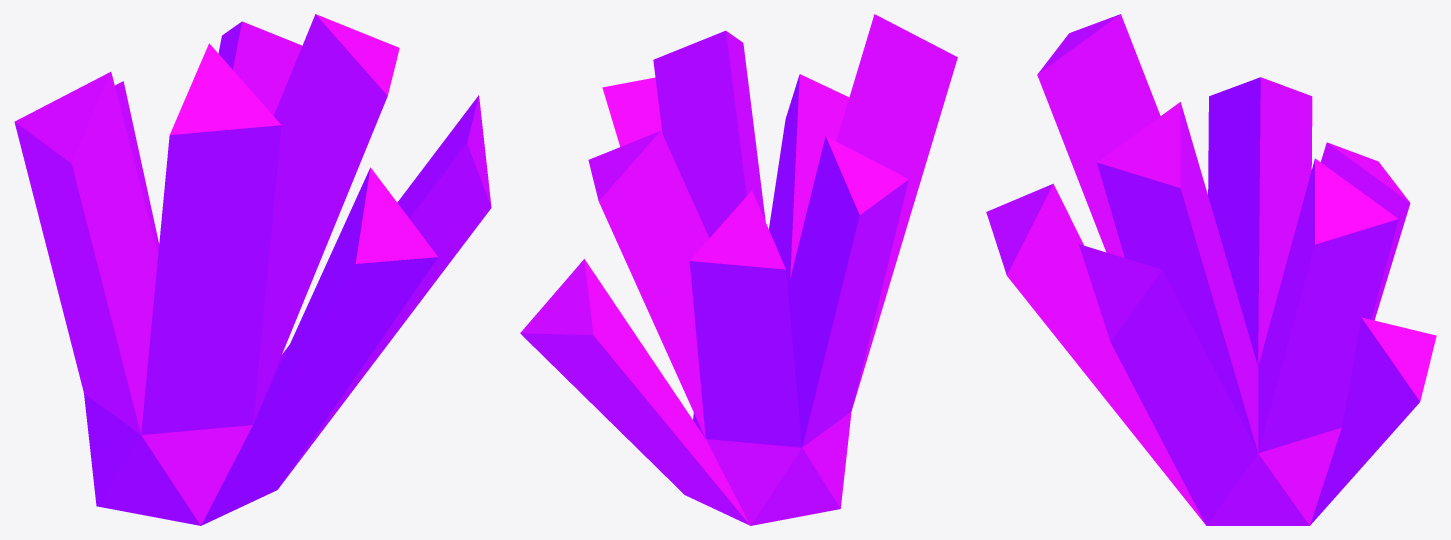
File: spikes.fbx
3 views of the same model, side by side, from view 1: azimuth 30°, elevation 25°; view 2: azimuth 150°, elevation 25°; view 3: azimuth 270°, elevation 25° (orthographic). The views are drawn at different scales.
Parts seen in each view (by area): view 1: Kryształy_podloga; view 2: Kryształy_podloga; view 3: Kryształy_podloga.
Boxes of the visible parts, x1,y1,x2,y2 form: Kryształy_podloga: (14,14,491,525); Kryształy_podloga: (520,14,957,525); Kryształy_podloga: (986,14,1436,525).
Bounding box in the file's own units: 300 × 382 × 339.
